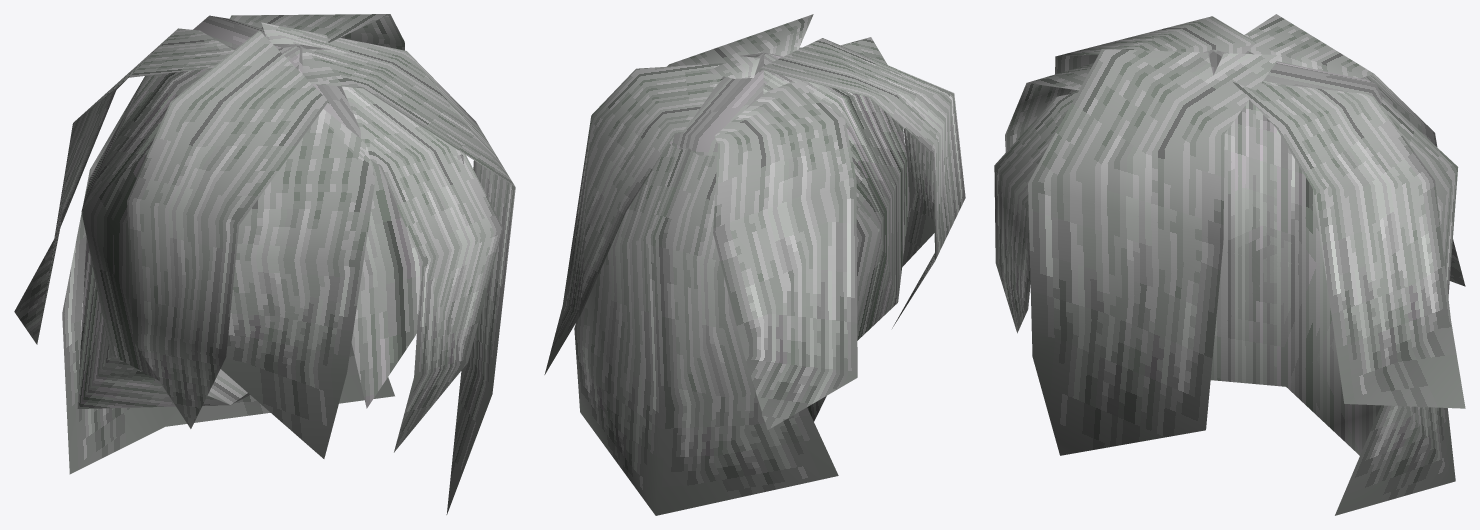
Rendered from Humar hair1.obj.
3 views of the same model, side by side, from view 1: azimuth 30°, elevation 25°; view 2: azimuth 150°, elevation 25°; view 3: azimuth 270°, elevation 25° (orthographic). The views are drawn at different scales.
Parts seen in each view (by area): view 1: objg_plAhai00_3, objg_plAhai00_2, objg_plAhai00_1, objg_plAhai00_4; view 2: objg_plAhai00_3, objg_plAhai00_4, objg_plAhai00_2, objg_plAhai00_1; view 3: objg_plAhai00_3, objg_plAhai00_2, objg_plAhai00_4, objg_plAhai00_1.
Part boxes in pixels (left/top/right/bottom): objg_plAhai00_3: left=14, top=14, right=515, bottom=514; objg_plAhai00_2: left=77, top=44, right=462, bottom=408; objg_plAhai00_1: left=193, top=15, right=464, bottom=408; objg_plAhai00_4: left=62, top=76, right=394, bottom=474; objg_plAhai00_3: left=544, top=14, right=965, bottom=429; objg_plAhai00_4: left=574, top=143, right=838, bottom=515; objg_plAhai00_2: left=720, top=52, right=909, bottom=421; objg_plAhai00_1: left=669, top=52, right=904, bottom=155; objg_plAhai00_3: left=994, top=14, right=1465, bottom=455; objg_plAhai00_2: left=1204, top=49, right=1381, bottom=455; objg_plAhai00_4: left=1335, top=96, right=1458, bottom=515; objg_plAhai00_1: left=1067, top=51, right=1382, bottom=105.
Size of the model in its own units: 0.8062 by 0.9958 by 0.9834.
Materials: 2 (2 with a texture image).
